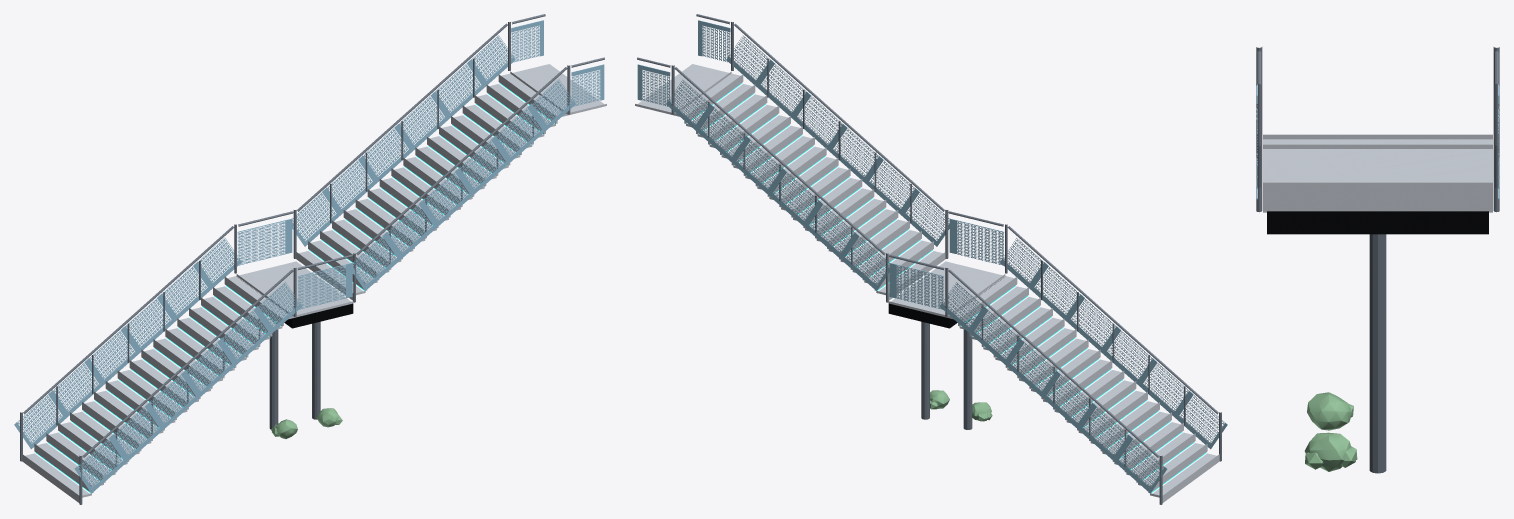
File: tt_arc_feature_stair.glb
3 renders of one model, left to right at view 1: azimuth 30°, elevation 25°; view 2: azimuth 150°, elevation 25°; view 3: azimuth 270°, elevation 25°, orthographic. The views are drawn at different scales.
Parts seen in each view (by area): view 1: Guard_Scissor, Treads, Handrail, Landing_Columns, Nosing_LED, Guard_Posts, Newel, Column_Moss, Landing_Beam; view 2: Treads, Guard_Scissor, Handrail, Nosing_LED, Landing_Columns, Guard_Posts, Newel, Landing_Beam, Column_Moss; view 3: Treads, Landing_Beam, Landing_Columns, Column_Moss, Newel, Handrail, Guard_Scissor, Guard_Posts.
Boxes of the visible parts, box(x1,y1,x2,y2) form: Guard_Scissor: box(14, 20, 604, 493); Treads: box(22, 64, 606, 502); Handrail: box(23, 14, 604, 457); Landing_Columns: box(269, 318, 320, 429); Nosing_LED: box(35, 83, 555, 493); Guard_Posts: box(56, 58, 533, 466); Newel: box(20, 22, 570, 504); Column_Moss: box(271, 408, 342, 438); Landing_Beam: box(240, 279, 353, 328); Treads: box(635, 64, 1219, 502); Guard_Scissor: box(637, 20, 1227, 493); Handrail: box(637, 14, 1218, 457); Nosing_LED: box(686, 83, 1206, 493); Landing_Columns: box(921, 318, 972, 429); Guard_Posts: box(708, 58, 1185, 466); Newel: box(671, 22, 1221, 504); Landing_Beam: box(888, 279, 1001, 328); Column_Moss: box(930, 390, 992, 421); Treads: box(1263, 134, 1492, 212); Landing_Beam: box(1267, 211, 1488, 234); Landing_Columns: box(1369, 234, 1386, 473); Column_Moss: box(1304, 392, 1357, 471); Newel: box(1256, 47, 1499, 212); Handrail: box(1256, 51, 1499, 85); Guard_Scissor: box(1256, 84, 1499, 199); Guard_Posts: box(1257, 145, 1498, 188).
Size of what is drawn, in the model's own units: 12.56 by 7.2 by 2.48.
7 materials, 5 textured.
